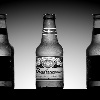beer: (29, 13, 66, 93)
